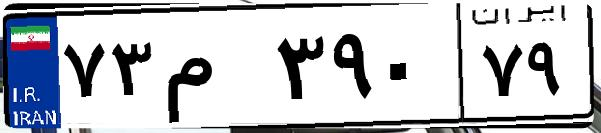0: (385, 28, 445, 110)
3: (270, 28, 330, 110), (110, 28, 158, 98)
7: (57, 26, 110, 100), (475, 38, 525, 113)
9: (330, 28, 385, 110), (525, 38, 570, 115)
م: (158, 20, 270, 120)
